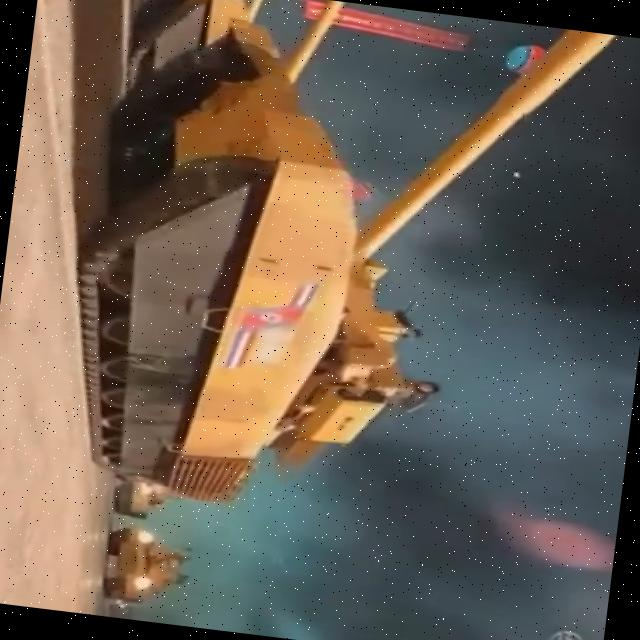north tank: (33, 0, 623, 552), (65, 514, 232, 624)
